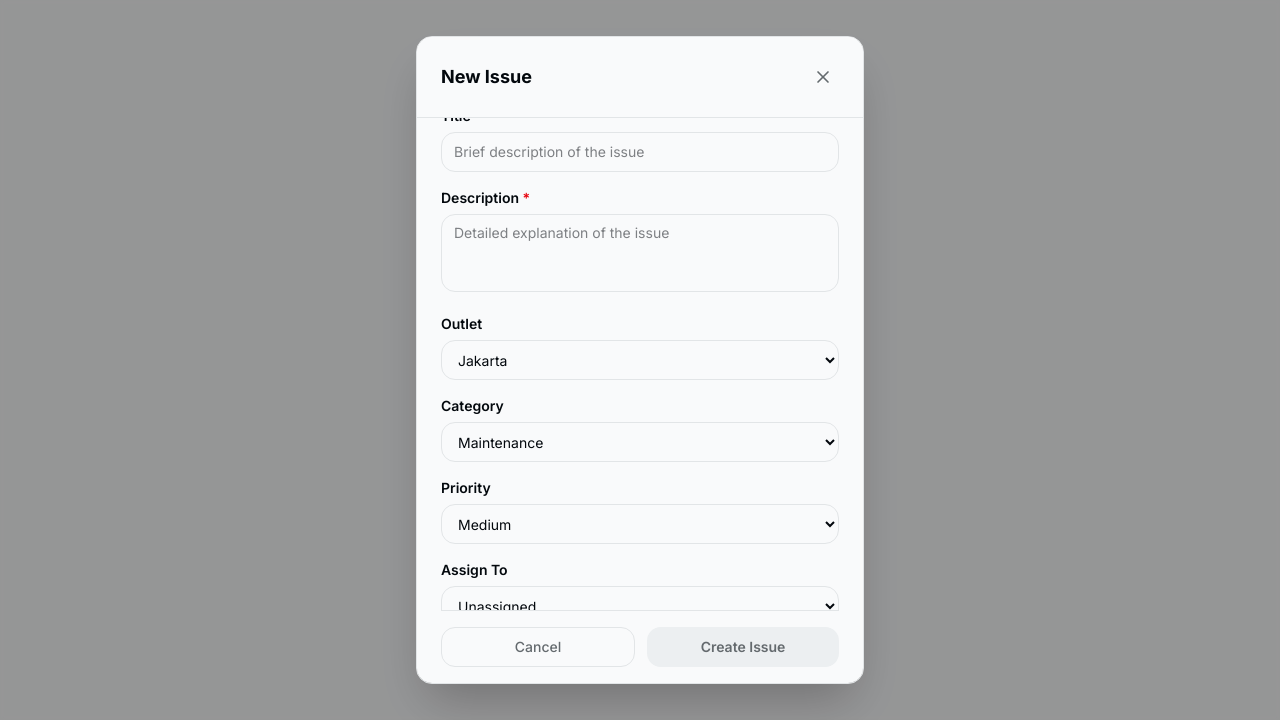
Test: CreateIssueDialog › approval warning follows the outlet threshold (Todo-Pilot §5) › warns only above the selected outlet’s threshold
The width and height of the screenshot is (1280, 720).
Earlier steps of the test are not shown.
(page scrolled)
Expected: the text "approval will be created" is not shown
Select "Bandung" in the dropdown labelled "Outlet": (640, 360) [441,340,839,380]
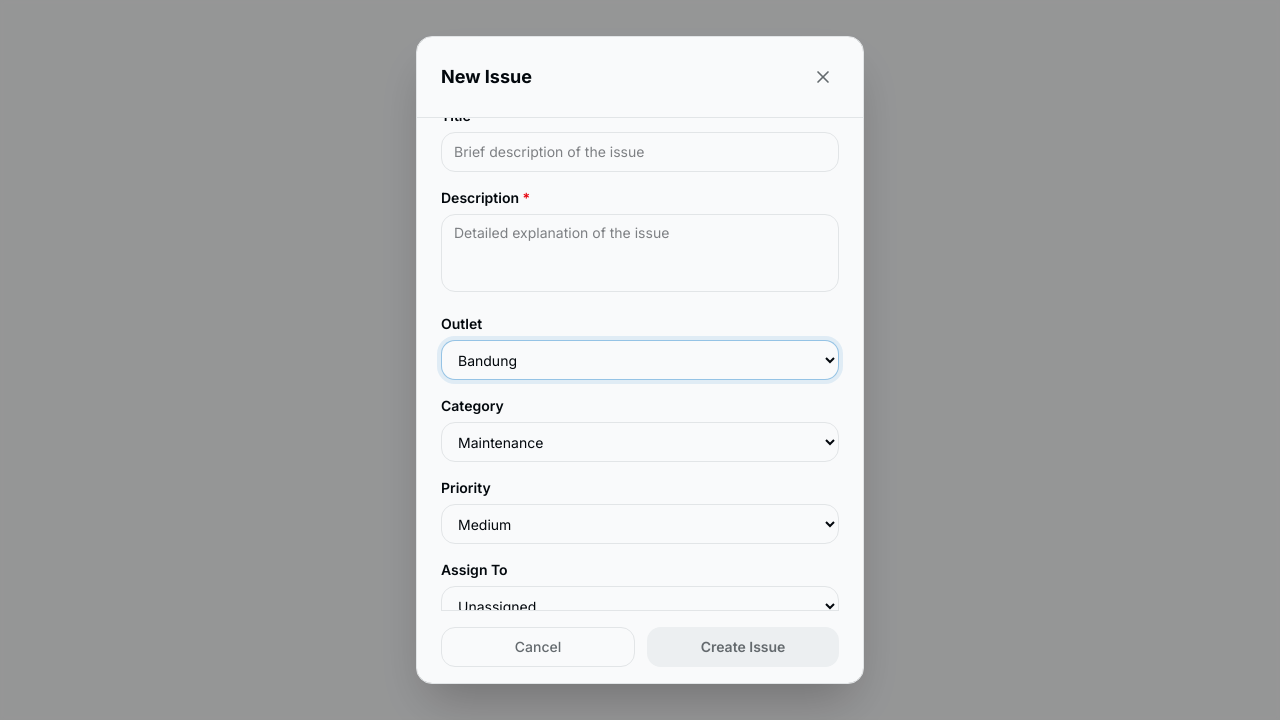
Select "Jakarta" in the dropdown labelled "Outlet": (640, 360) [441,340,839,380]
(page scrolled)
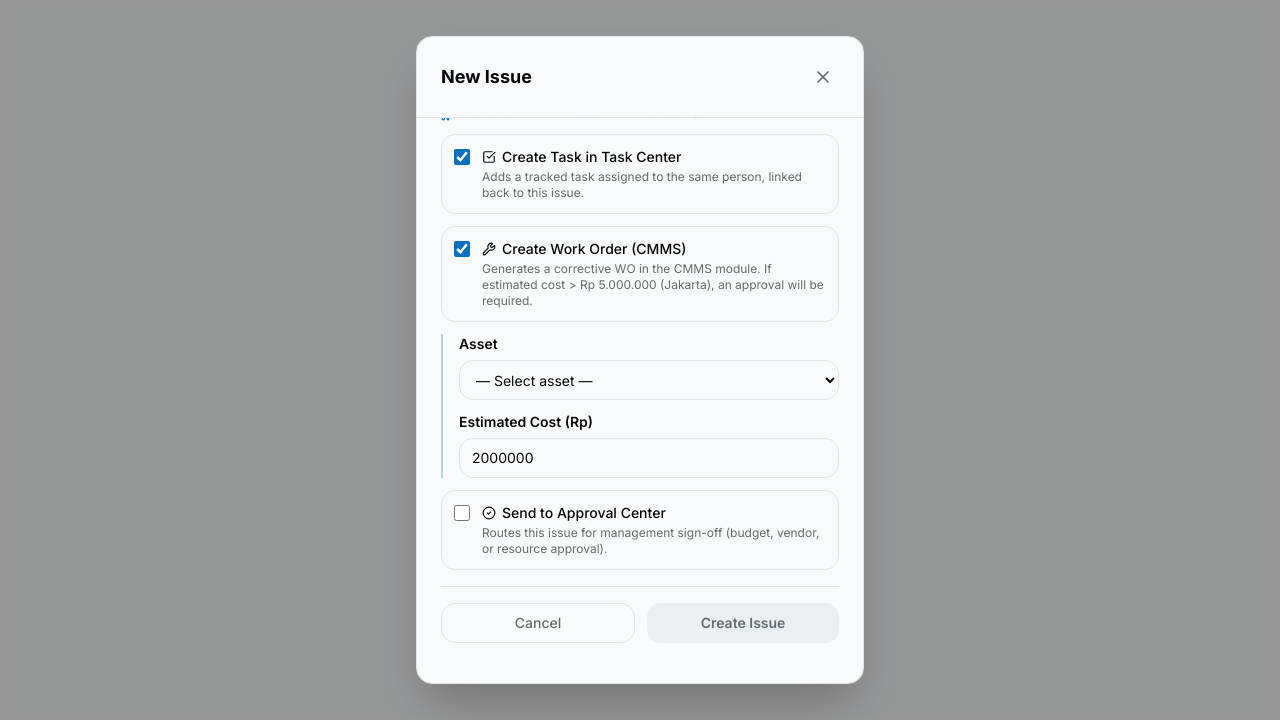
Replace the text in the number field labelled "Estimated Cost (Rp)" with "6000000": (649, 458) [459,438,839,478]
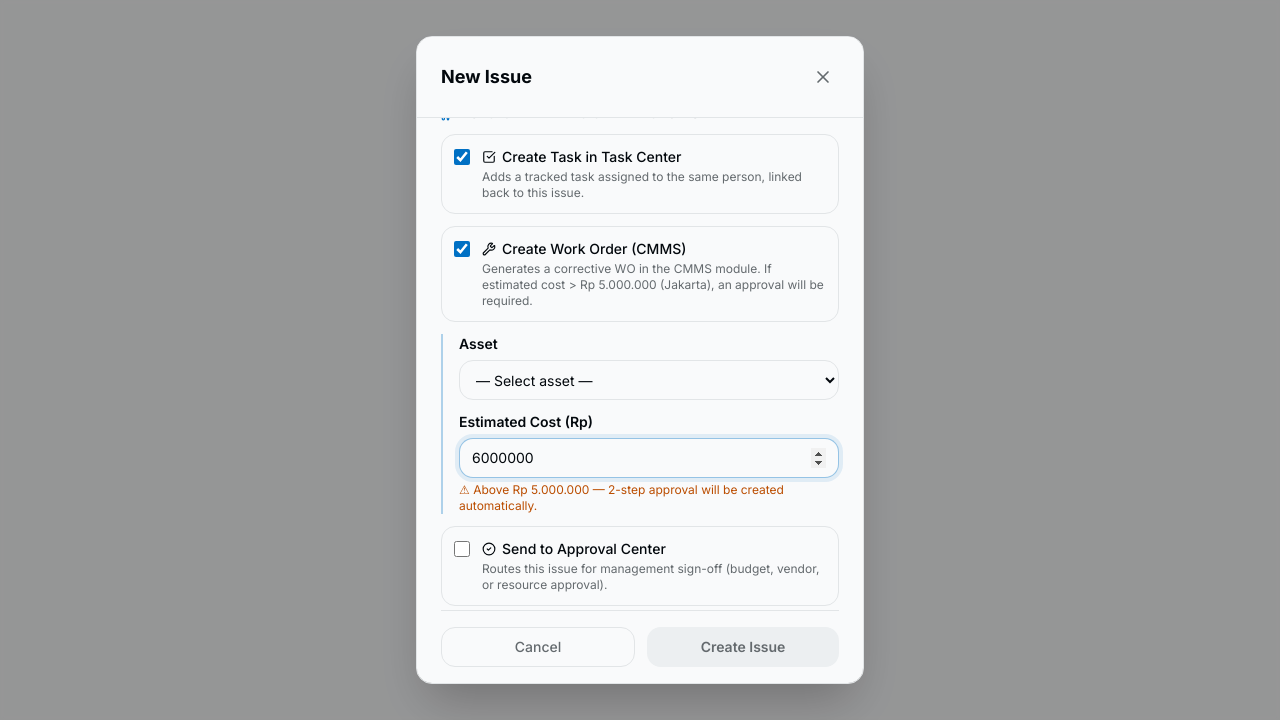
Now the text "Above Rp 5.000.000" is shown, box [459,482,784,513]
